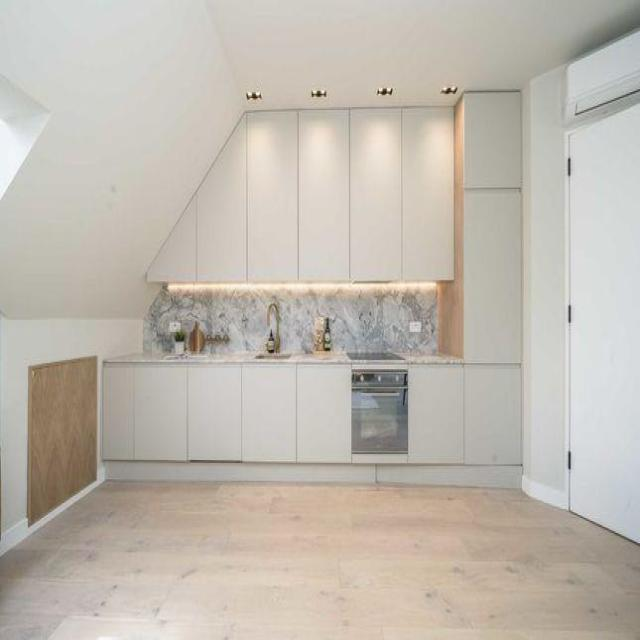Wall: (0, 482, 640, 639), (0, 0, 245, 319), (207, 1, 640, 109), (0, 316, 142, 554), (144, 283, 436, 354), (521, 66, 568, 507), (0, 75, 50, 198)
